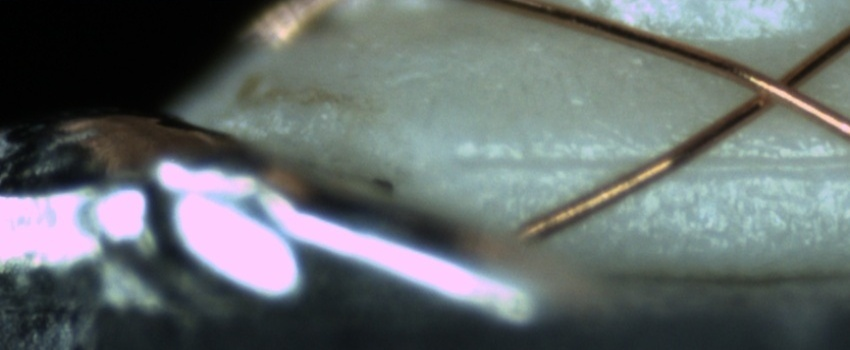CL: (731, 53, 826, 120)
DL: (445, 131, 849, 194)
